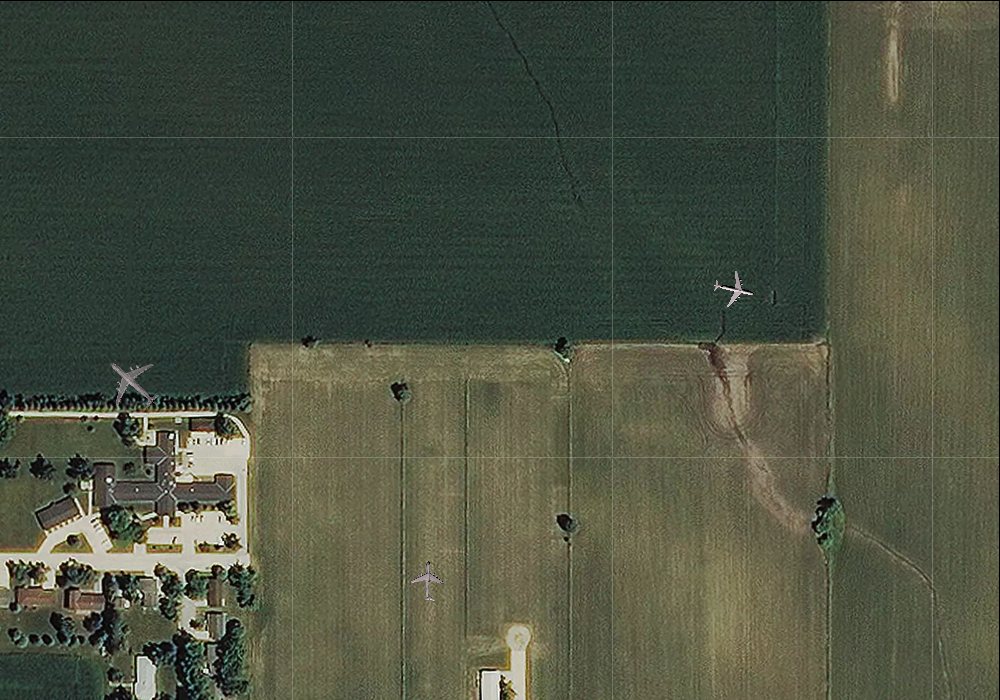plane: (91, 342, 172, 423), (710, 266, 758, 312), (408, 560, 449, 602)
